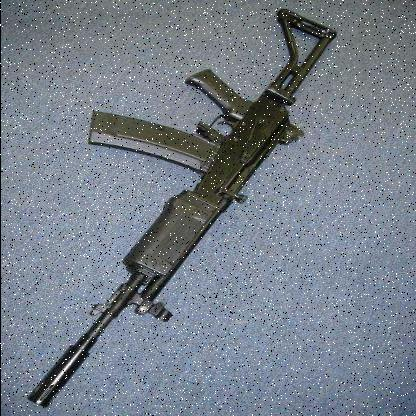rifle: (20, 7, 346, 410)
